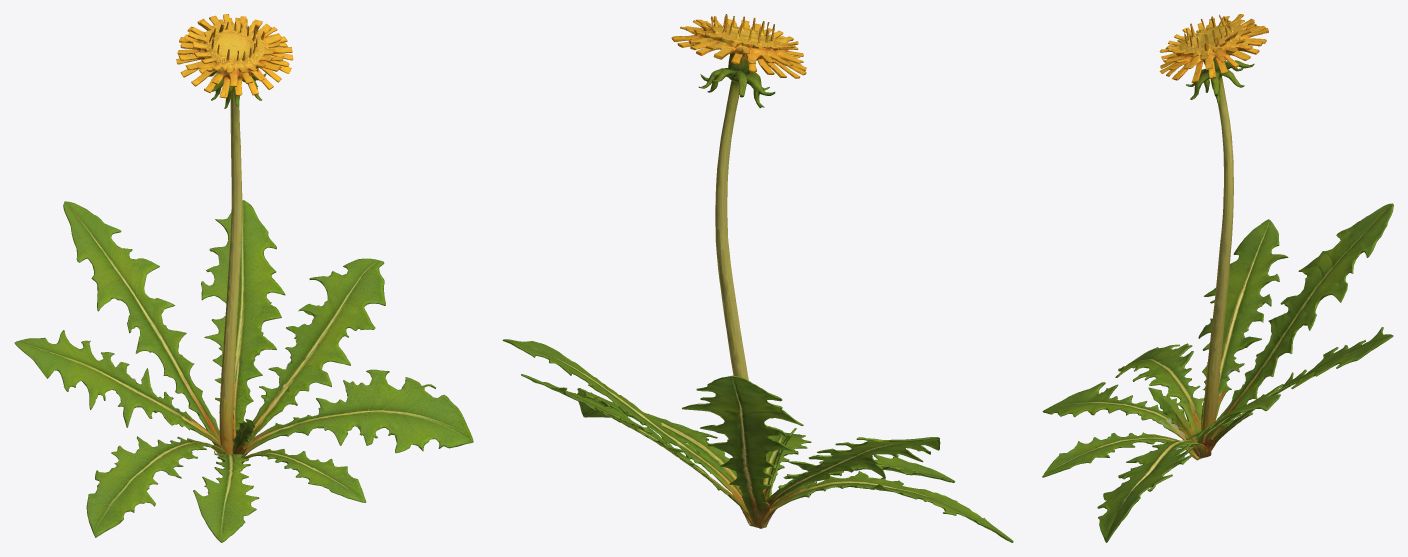
File: Dandelion.glb
3 views of the same model, side by side, from view 1: azimuth 30°, elevation 25°; view 2: azimuth 150°, elevation 25°; view 3: azimuth 270°, elevation 25° (orthographic). The views are drawn at different scales.
Visible parts, largest first — view 1: Mesh_0; view 2: Mesh_0; view 3: Mesh_0.
Part boxes in pixels (left/top/right/bottom): Mesh_0: left=14, top=14, right=473, bottom=542; Mesh_0: left=502, top=14, right=1013, bottom=542; Mesh_0: left=1042, top=14, right=1393, bottom=542.
Size of the model in its own units: 0.9174 by 1 by 0.7245.
1 material, 1 textured.
